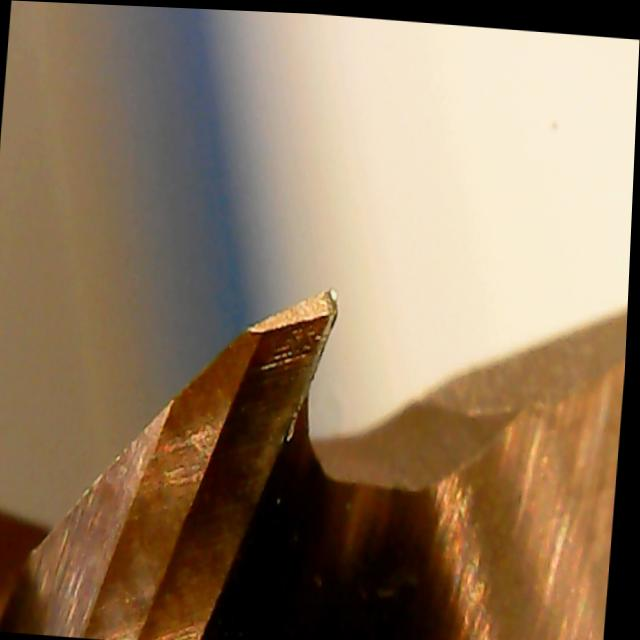Tool-wear-class-1: (175, 273, 356, 514)
